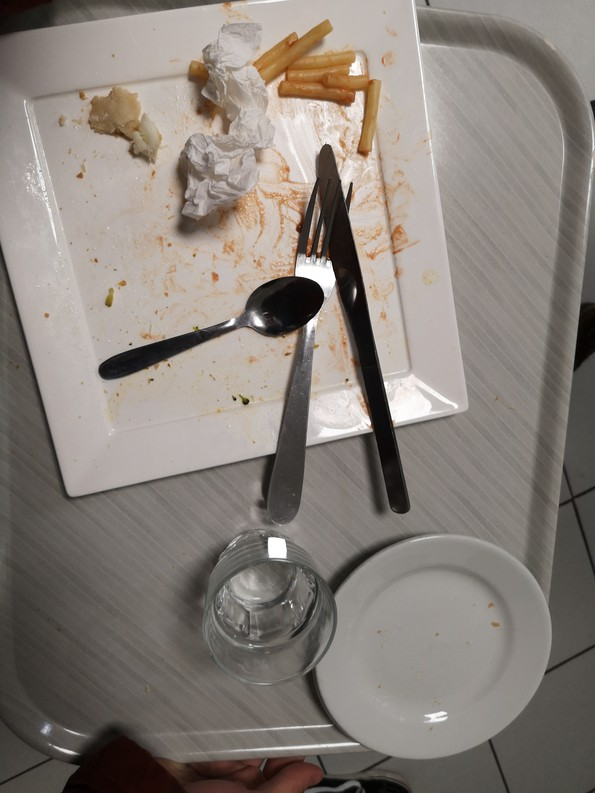cup: (190, 520, 375, 710)
cutlery: (252, 146, 412, 536), (88, 268, 325, 380)
orga: (272, 22, 374, 124), (88, 80, 160, 179)
trash: (178, 20, 272, 221)
